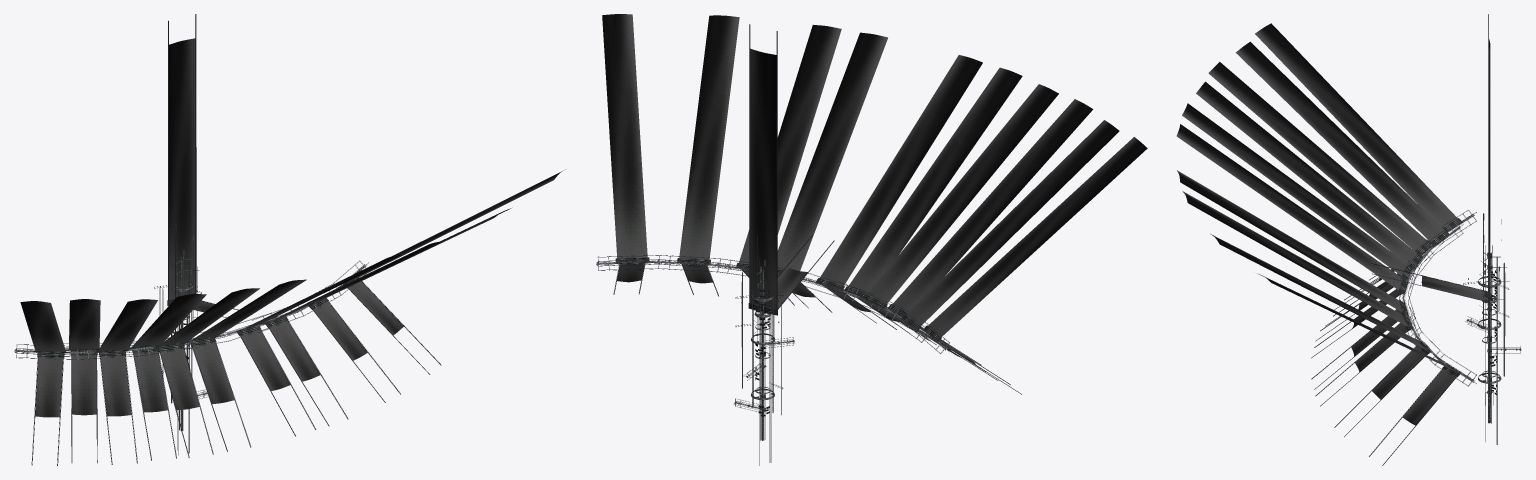
File: sateliteRace.obj
3 renders of one model, left to right at view 1: azimuth 30°, elevation 25°; view 2: azimuth 150°, elevation 25°; view 3: azimuth 270°, elevation 25°, orthographic. The views are drawn at different scales.
Parts seen in each view (by area): view 1: MET_SOLPANEL01_gxmat34, MET_SOLPANEL03_gxmat6, MET_SOLPANEL01_gxmat31, MET_SOLPANEL02_gxmat51, MET_SOLPANEL02_gxmat48, MET_SOLPANEL01_gxmat46, MET_SOLPANEL02_gxmat63, MET_SOLPANEL03_gxmat10, MET_SOLPANEL01_gxmat45, MET_SOLPANEL02_gxmat62, MET_CATAPALT01_A_LOD_gxmat76; view 2: MET_SOLPANEL01_gxmat31, MET_SOLPANEL02_gxmat48, MET_SOLPANEL03_gxmat6, MET_CATAPALT01_A_LOD_gxmat76, MET_SOLPANEL03_gxmat10, MET_SOLPANEL01_gxmat34, MET_SOLPANEL01_gxmat37, MET_SOLPANEL01_gxmat45, MET_CATAPALT01_A_LOD_gxmat80, MET_SOLPANEL01_gxmat43, MET_CATAPALT01_A_LOD_gxmat72, MET_SOLPANEL02_gxmat51; view 3: MET_SOLPANEL01_gxmat31, MET_SOLPANEL02_gxmat48, MET_SOLPANEL01_gxmat34, MET_CATAPALT01_A_LOD_gxmat76, MET_SOLPANEL03_gxmat6, MET_SOLPANEL01_gxmat46, MET_SOLPANEL02_gxmat51, MET_SOLPANEL01_gxmat45, MET_CATAPALT01_A_LOD_gxmat80, MET_SOLPANEL03_gxmat10, MET_CATAPALT01_A_LOD_gxmat81, MET_SOLPANEL01_gxmat37 (+3 smaller).
Part boxes in pixels (x1,y1,x2,y2): MET_SOLPANEL01_gxmat34: [35, 281, 403, 417]; MET_SOLPANEL03_gxmat6: [169, 38, 214, 311]; MET_SOLPANEL01_gxmat31: [20, 169, 565, 351]; MET_SOLPANEL02_gxmat51: [72, 330, 290, 415]; MET_SOLPANEL02_gxmat48: [69, 254, 401, 349]; MET_SOLPANEL01_gxmat46: [31, 281, 441, 465]; MET_SOLPANEL02_gxmat63: [71, 330, 316, 463]; MET_SOLPANEL03_gxmat10: [168, 14, 238, 317]; MET_SOLPANEL01_gxmat45: [34, 277, 359, 357]; MET_SOLPANEL02_gxmat62: [67, 323, 262, 355]; MET_CATAPALT01_A_LOD_gxmat76: [159, 223, 207, 431]; MET_SOLPANEL01_gxmat31: [602, 14, 1147, 337]; MET_SOLPANEL02_gxmat48: [777, 32, 1119, 325]; MET_SOLPANEL03_gxmat6: [750, 48, 807, 309]; MET_CATAPALT01_A_LOD_gxmat76: [733, 234, 794, 440]; MET_SOLPANEL03_gxmat10: [749, 24, 834, 309]; MET_SOLPANEL01_gxmat34: [617, 263, 982, 369]; MET_SOLPANEL01_gxmat37: [598, 255, 949, 353]; MET_SOLPANEL01_gxmat45: [615, 257, 941, 342]; MET_CATAPALT01_A_LOD_gxmat80: [736, 271, 782, 465]; MET_SOLPANEL01_gxmat43: [596, 255, 949, 353]; MET_CATAPALT01_A_LOD_gxmat72: [742, 272, 781, 414]; MET_SOLPANEL02_gxmat51: [792, 283, 960, 357]; MET_SOLPANEL01_gxmat31: [1182, 23, 1457, 371]; MET_SOLPANEL02_gxmat48: [1176, 41, 1444, 311]; MET_SOLPANEL01_gxmat34: [1355, 269, 1455, 425]; MET_CATAPALT01_A_LOD_gxmat76: [1465, 213, 1521, 423]; MET_SOLPANEL03_gxmat6: [1421, 39, 1490, 300]; MET_SOLPANEL01_gxmat46: [1315, 269, 1456, 465]; MET_SOLPANEL02_gxmat51: [1351, 245, 1432, 356]; MET_SOLPANEL01_gxmat45: [1402, 218, 1462, 377]; MET_CATAPALT01_A_LOD_gxmat80: [1463, 252, 1508, 444]; MET_SOLPANEL03_gxmat10: [1371, 14, 1488, 300]; MET_CATAPALT01_A_LOD_gxmat81: [1478, 276, 1501, 383]; MET_SOLPANEL01_gxmat37: [1400, 210, 1476, 385].
Size of the model in its own units: 2008 by 1530 by 1128.
